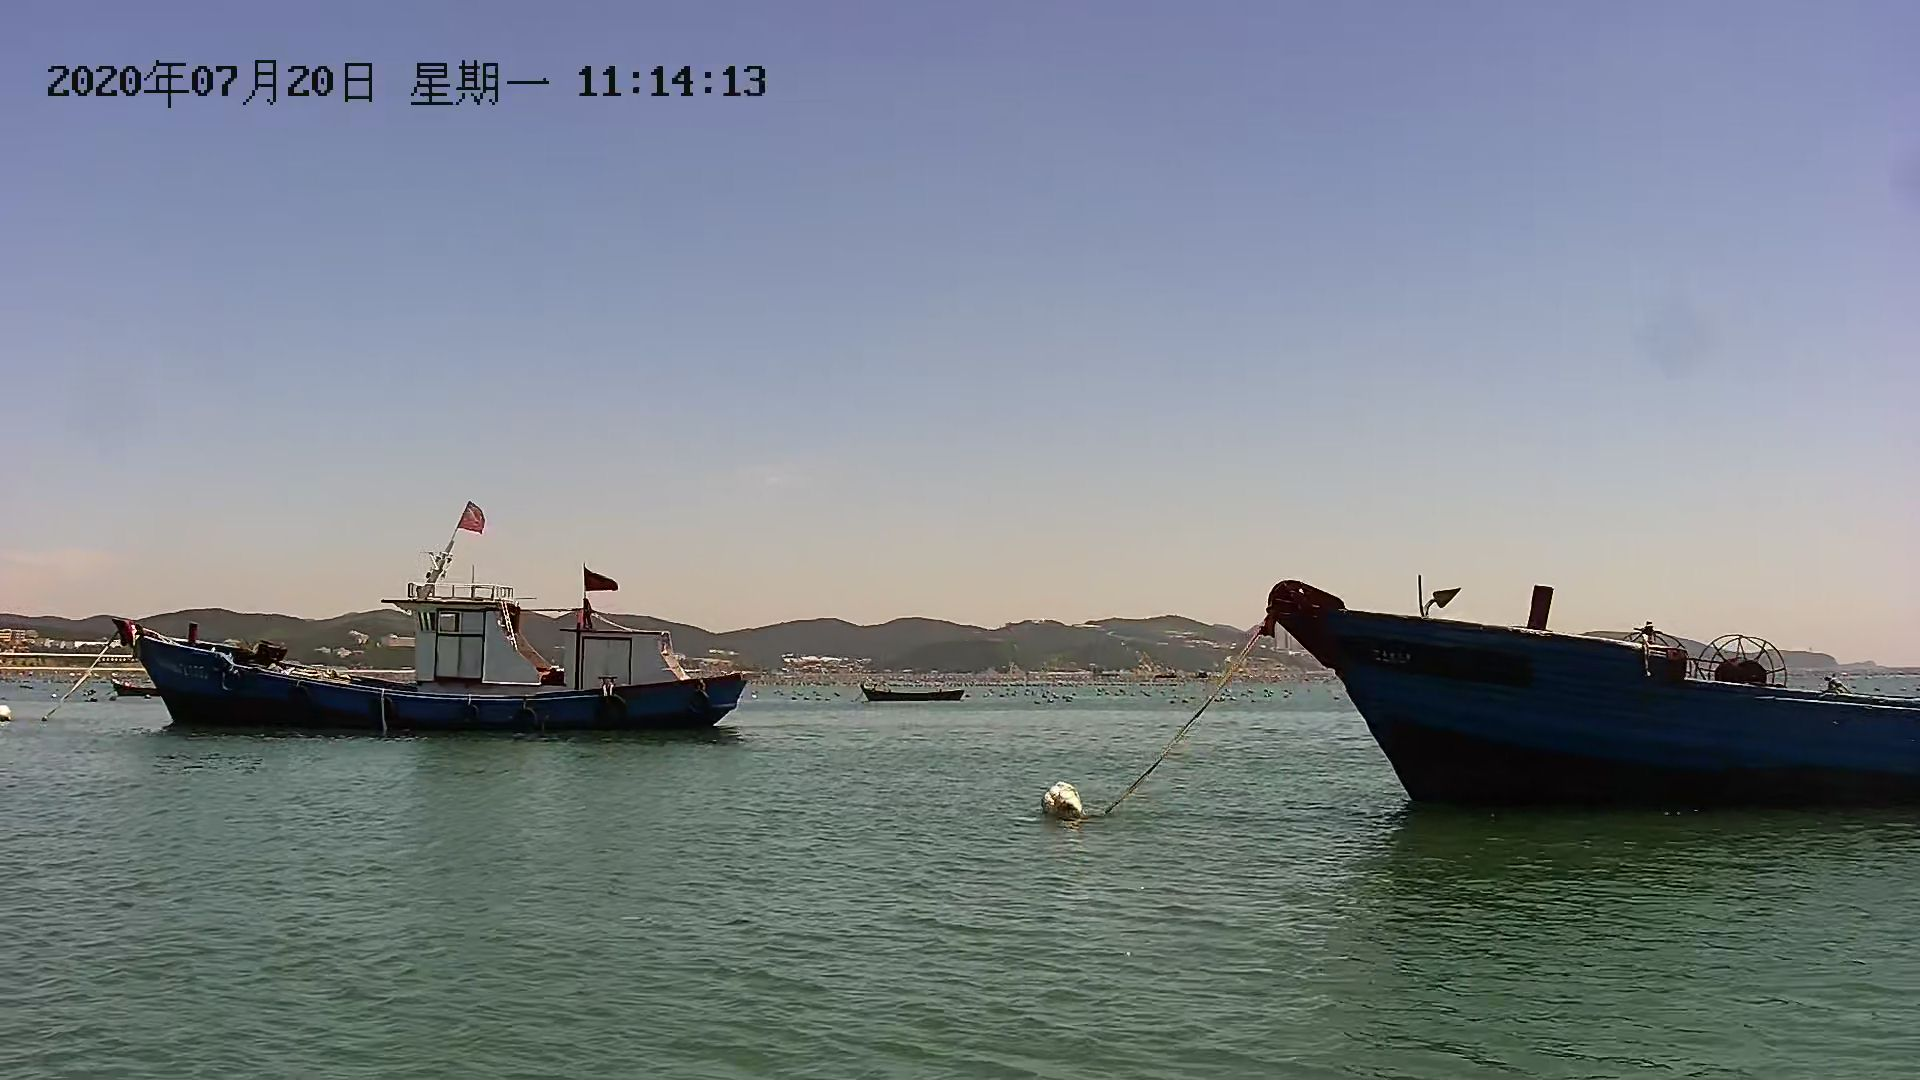ball: (1043, 775, 1096, 824)
boat: (1251, 553, 1920, 804), (123, 574, 766, 724), (847, 679, 982, 708)
